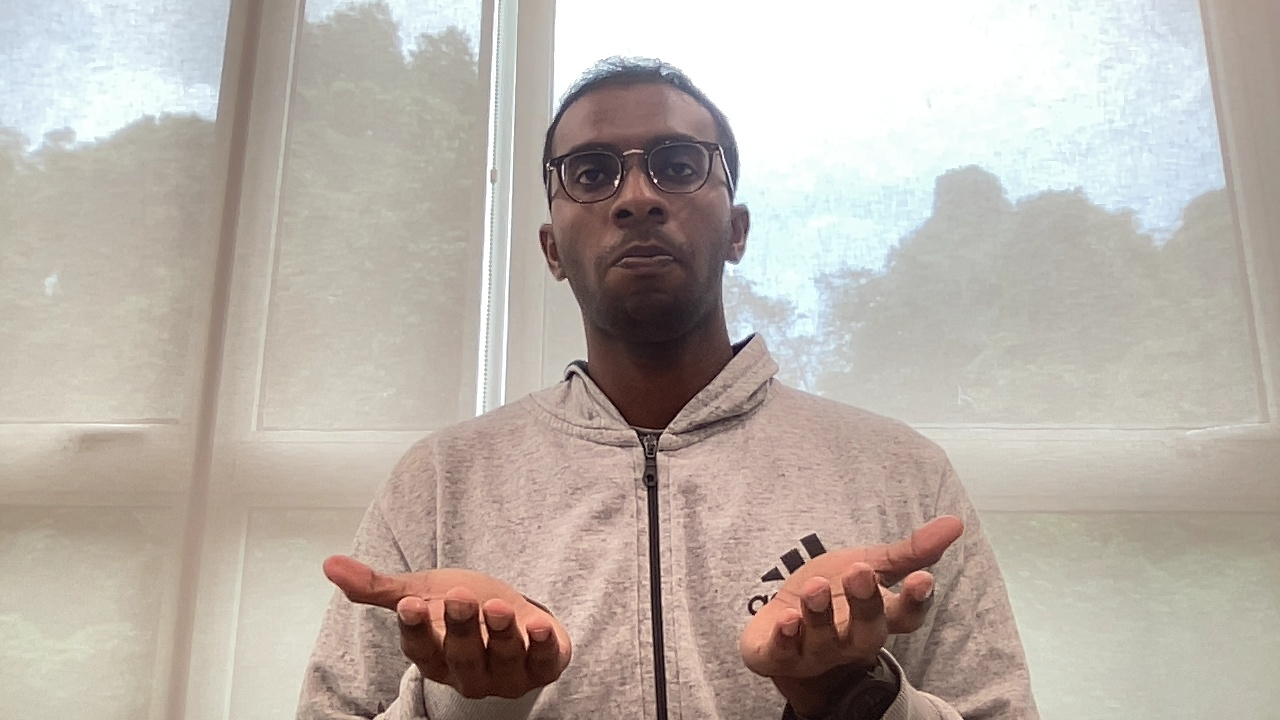give: (319, 511, 971, 707)
